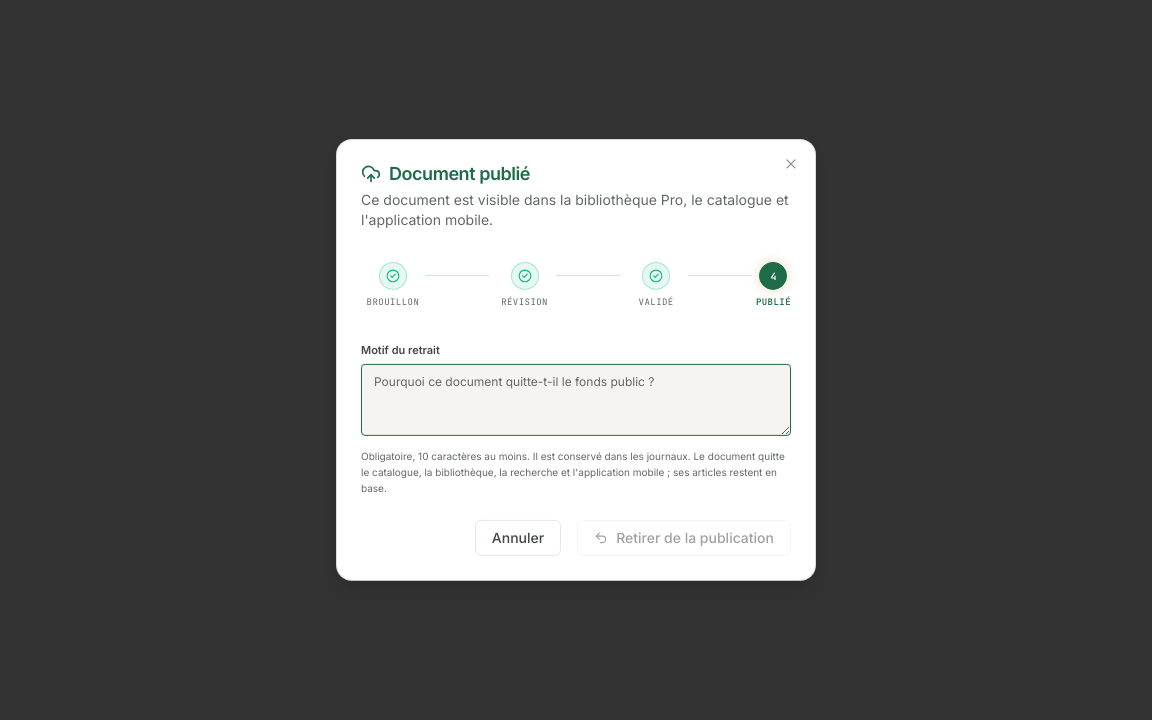
Test: affiche le refus de l'API si le retrait échoue
In the text box labelled "Motif du retrait": point(576, 400) [361,364,791,436], type "Motif suffisamment long"
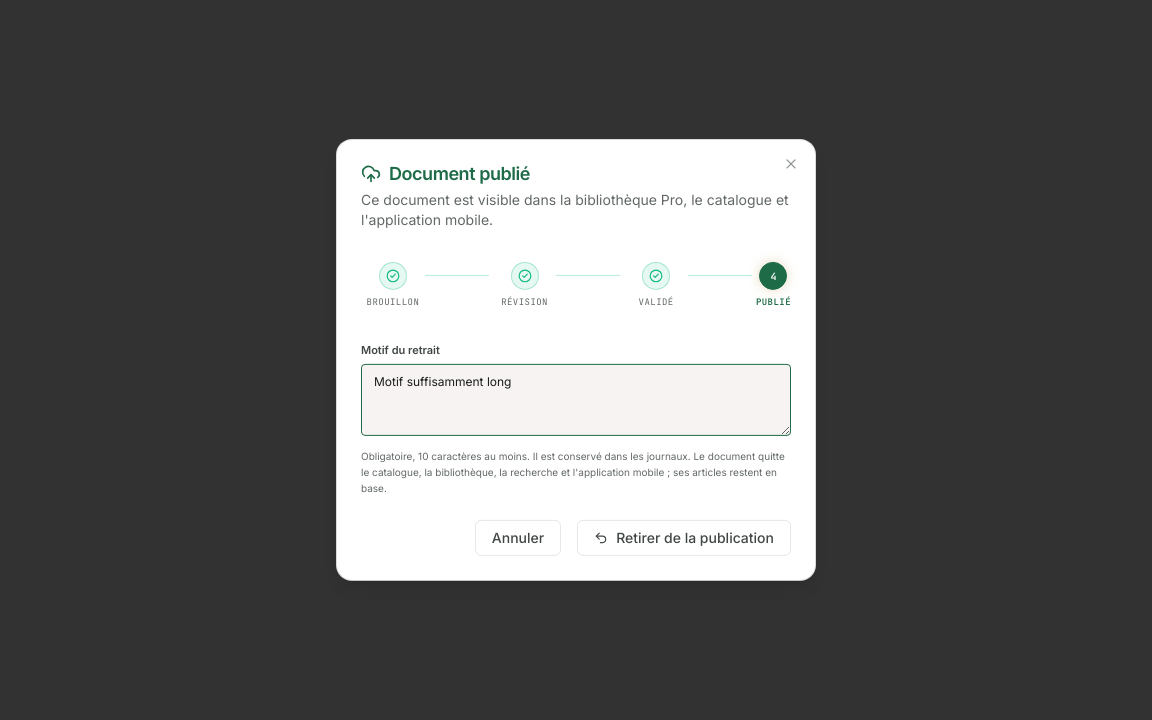
Click the button "Retirer de la publication": point(684, 538) [577,520,791,556]
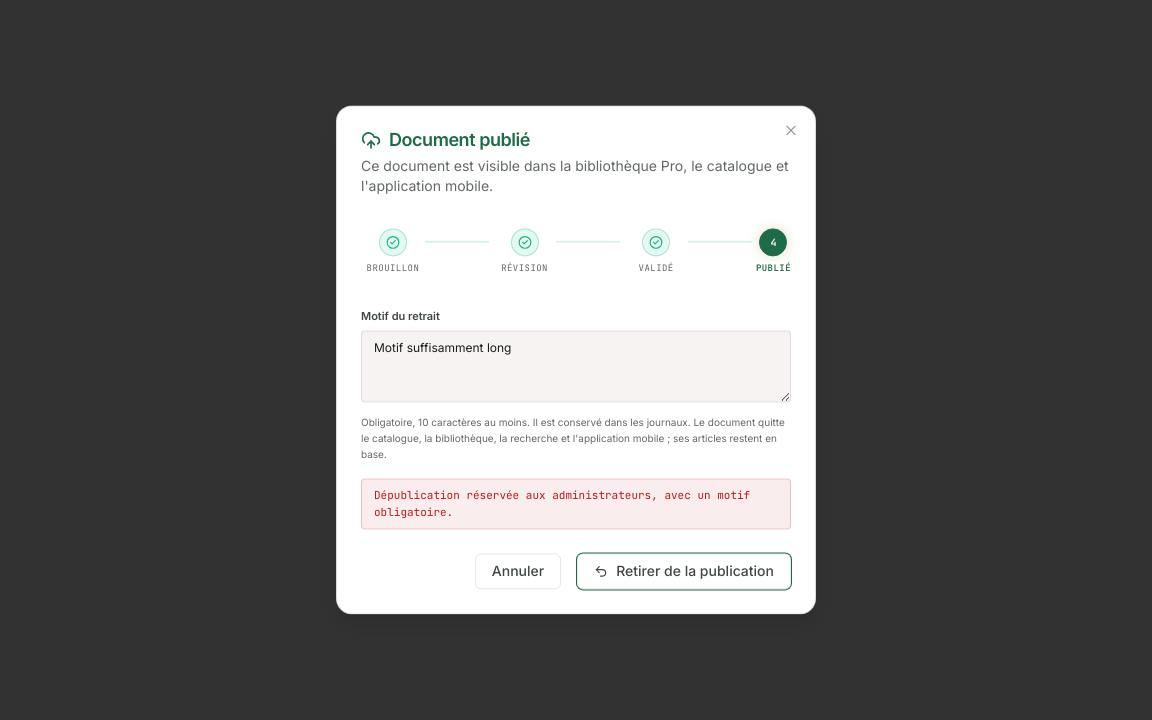
Now the text "réservée aux administrateurs" is shown, box [374,489,750,519]
